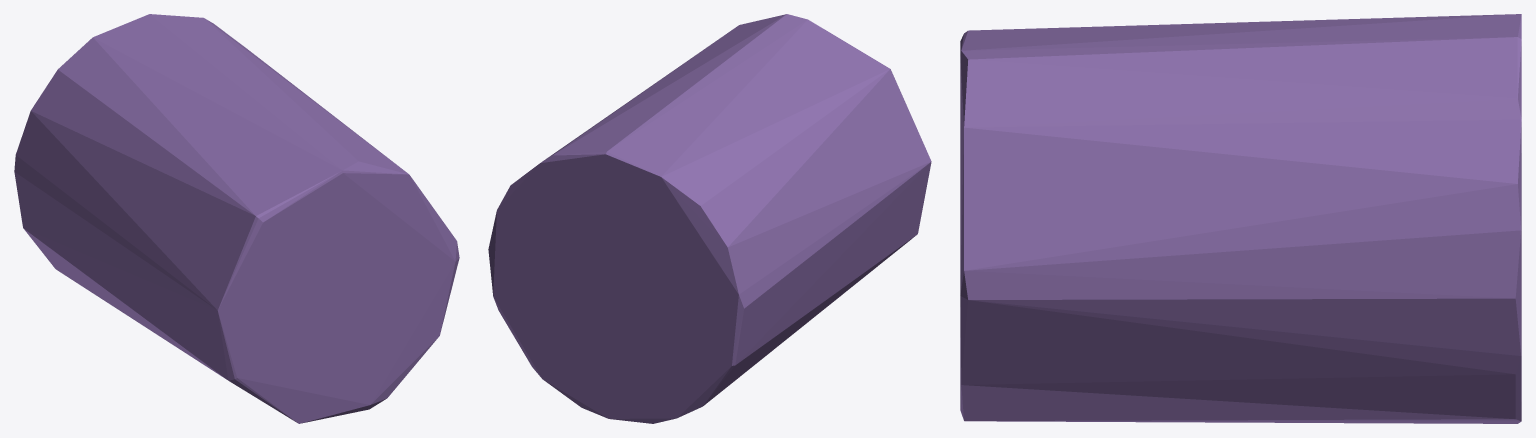
File: food_beverage_coffeeCup_a02.glb
3 renders of one model, left to right at view 1: azimuth 30°, elevation 25°; view 2: azimuth 150°, elevation 25°; view 3: azimuth 270°, elevation 25°, orthographic. The views are drawn at different scales.
Visible parts, largest first — view 1: geometry_0; view 2: geometry_0; view 3: geometry_0.
Part boxes in pixels (bbox=[...]): geometry_0: bbox=[14, 14, 459, 423]; geometry_0: bbox=[488, 14, 931, 423]; geometry_0: bbox=[960, 14, 1521, 423].
Bounding box in the file's own units: 0.3559 × 0.3533 × 0.48.
